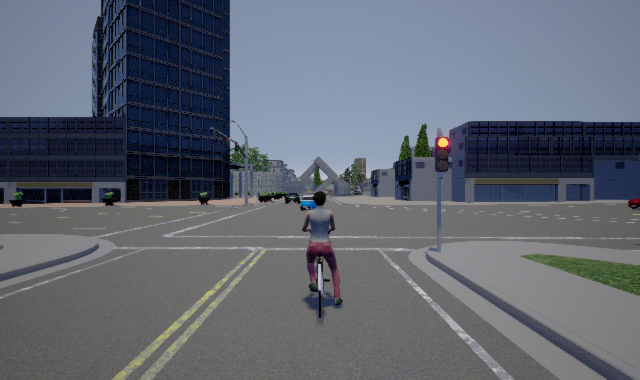bike: (301, 190, 343, 318)
traffic_light: (435, 136, 449, 172), (214, 130, 219, 141), (226, 137, 231, 147), (235, 142, 239, 151)
vehicle: (300, 193, 317, 212), (285, 192, 301, 203)
